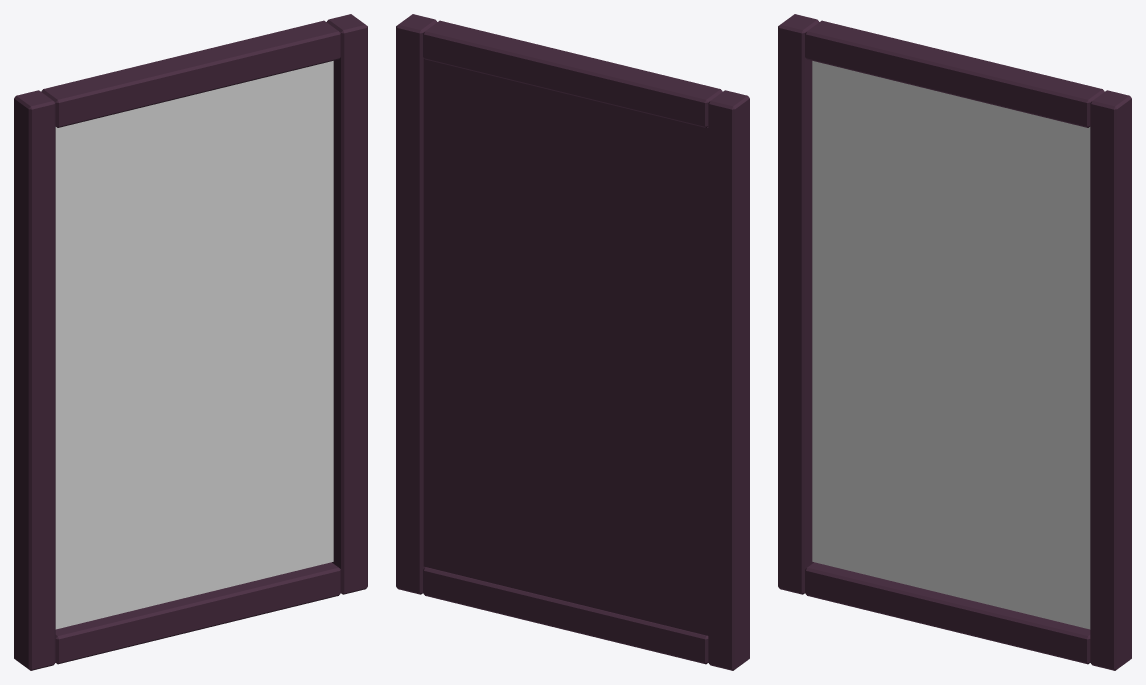
File: cuadro-pared.DtmMlROn.glb
The picture shows the model from 3 angles, left to right: view 1: azimuth 30°, elevation 25°; view 2: azimuth 150°, elevation 25°; view 3: azimuth 330°, elevation 25°; orthographic projection.
Visible parts, largest first — view 1: Marquesina; view 2: Marquesina; view 3: Marquesina.
Part boxes in pixels (x1,y1,x2,y2): Marquesina: [14, 14, 367, 670]; Marquesina: [396, 14, 749, 670]; Marquesina: [778, 14, 1131, 670].
Size of the model in its own units: 0.6289 by 1 by 0.055.
